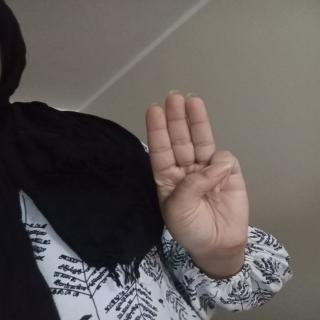THA: (126, 83, 274, 264)
